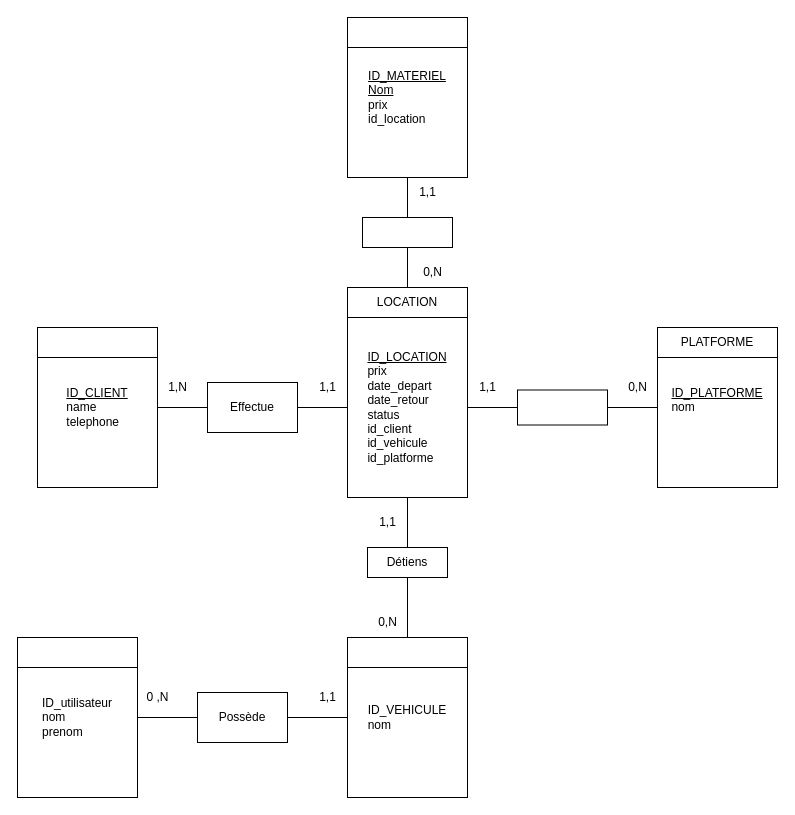
Some shapes in this 795 by 815 pixel diagram are drawn without their labels. Each missing label, with the centre of its shape:
"Appartient" belongs at (x=407, y=232).
"CLIENT" belongs at (x=97, y=342).
"Gere" belongs at (x=562, y=407).
"MATERIEL" belongs at (x=407, y=32).
"USER" belongs at (x=77, y=652).
"VEHICULE" belongs at (x=407, y=652).
